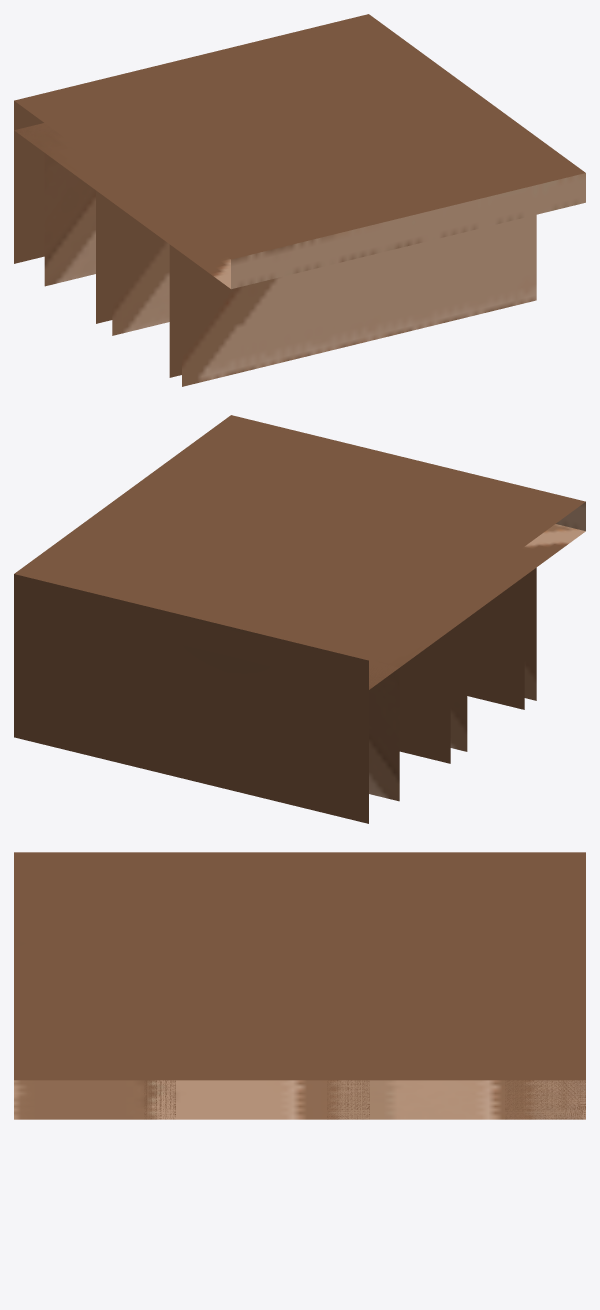
The model's file is pz_g022_location_shop_generic_01_long_shelves_part2.obj.
The picture shows the model from 3 angles, top to bottom: view 1: azimuth 30°, elevation 25°; view 2: azimuth 150°, elevation 25°; view 3: azimuth 270°, elevation 25°; orthographic projection. The views are drawn at different scales.
Visible parts, largest first — view 1: rear_panel_front, open_shelf_2_top, rear_panel_top, open_shelf_1_top, rear_panel_rear, open_shelf_0_top, open_shelf_0_bottom, open_shelf_1_bottom, open_shelf_2_bottom; view 2: rear_panel_front, open_shelf_0_bottom, rear_panel_bottom, open_shelf_2_bottom, rear_panel_rear, open_shelf_1_bottom, open_shelf_0_top, open_shelf_1_top, open_shelf_2_top; view 3: rear_panel_front, rear_panel_rear, open_shelf_0_front, open_shelf_1_front, open_shelf_2_front.
Boxes of the visible parts, x1,y1,x2,y2 form: rear_panel_front: (14,14,585,259); open_shelf_2_top: (182,215,536,386); rear_panel_top: (231,173,585,289); open_shelf_1_top: (112,202,169,335); rear_panel_rear: (14,123,230,288); open_shelf_0_top: (44,153,95,286); open_shelf_0_bottom: (14,130,44,263); open_shelf_1_bottom: (96,190,112,323); open_shelf_2_bottom: (169,244,181,377); rear_panel_front: (14,415,585,660); open_shelf_0_bottom: (14,603,368,823); rear_panel_bottom: (14,574,368,690); open_shelf_2_bottom: (467,576,524,709); rear_panel_rear: (369,524,585,689); open_shelf_1_bottom: (399,630,450,763); open_shelf_0_top: (369,668,399,801); open_shelf_1_top: (450,618,467,751); open_shelf_2_top: (524,567,536,700); rear_panel_front: (14,852,585,1080); rear_panel_rear: (14,1080,585,1119); open_shelf_0_front: (505,1080,585,1119); open_shelf_1_front: (327,1080,369,1119); open_shelf_2_front: (144,1080,175,1119).
Size of the model in its own units: 1 by 0.44 by 1.06.
1 material, 1 textured.
